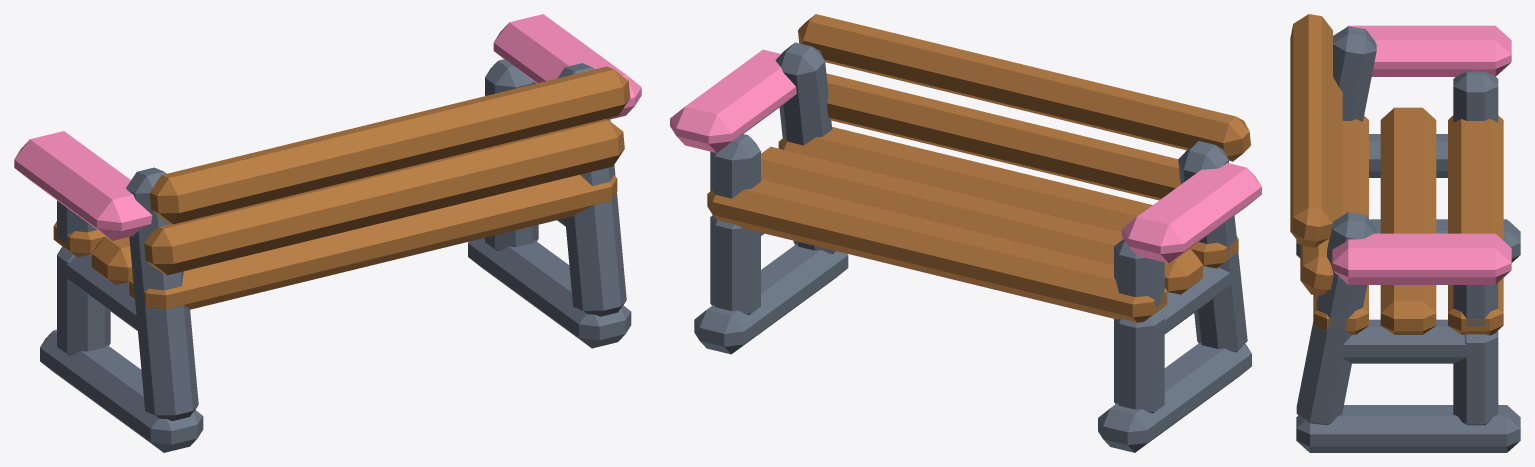
Rendered from Prop_sakura_schoolyard_Bench.glb.
3 views of the same model, side by side, from view 1: azimuth 30°, elevation 25°; view 2: azimuth 150°, elevation 25°; view 3: azimuth 270°, elevation 25° (orthographic). The views are drawn at different scales.
Parts seen in each view (by area): view 1: Wood_B5793F, StoneDark_6B7686, Sakura_FF8FC0; view 2: Wood_B5793F, StoneDark_6B7686, Sakura_FF8FC0; view 3: Wood_B5793F, StoneDark_6B7686, Sakura_FF8FC0.
Part boxes in pixels (left/top/right/bottom): Wood_B5793F: left=53, top=66, right=630, bottom=309; StoneDark_6B7686: left=40, top=59, right=631, bottom=452; Sakura_FF8FC0: left=14, top=14, right=641, bottom=240; Wood_B5793F: left=707, top=14, right=1250, bottom=322; StoneDark_6B7686: left=694, top=42, right=1251, bottom=452; Sakura_FF8FC0: left=670, top=49, right=1261, bottom=263; Wood_B5793F: left=1290, top=14, right=1503, bottom=335; StoneDark_6B7686: left=1296, top=26, right=1520, bottom=452; Sakura_FF8FC0: left=1332, top=25, right=1511, bottom=284.
Size of the model in its own units: 6.24 by 3 by 2.57.
